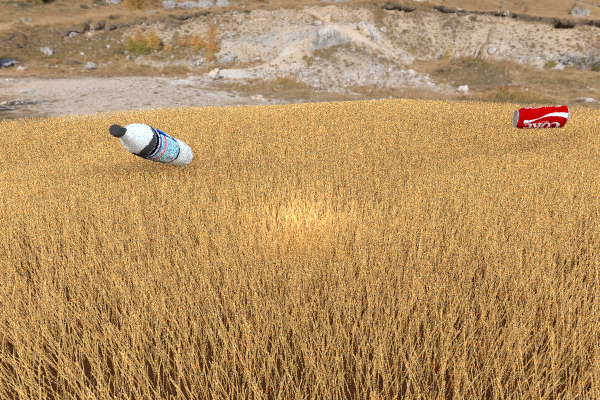bottle: (109, 123, 192, 167)
can: (269, 108, 311, 142), (512, 105, 569, 128)
